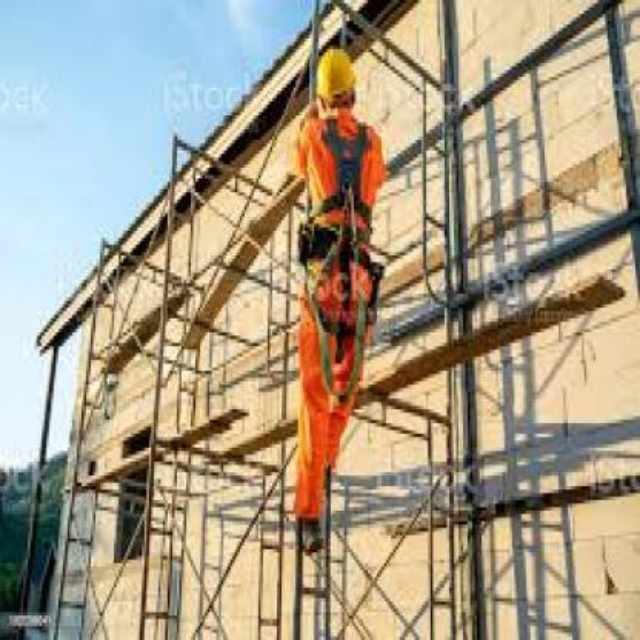Arnes_seguridad: (301, 112, 376, 403)
